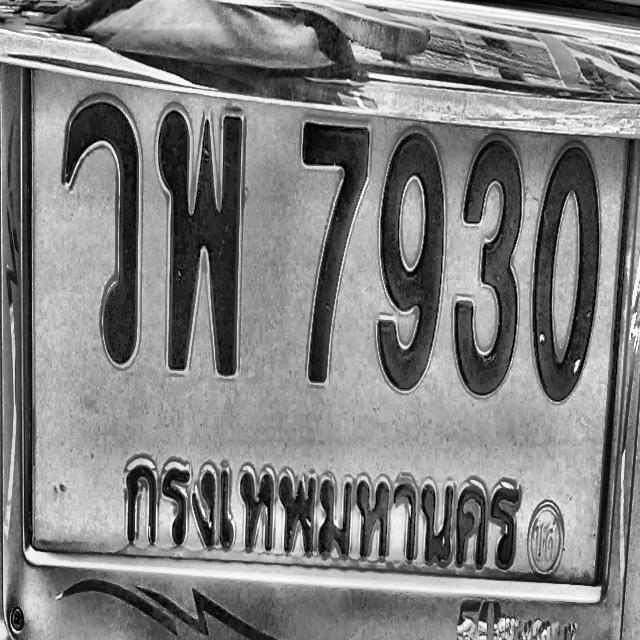license-plate: (21, 43, 628, 620)
